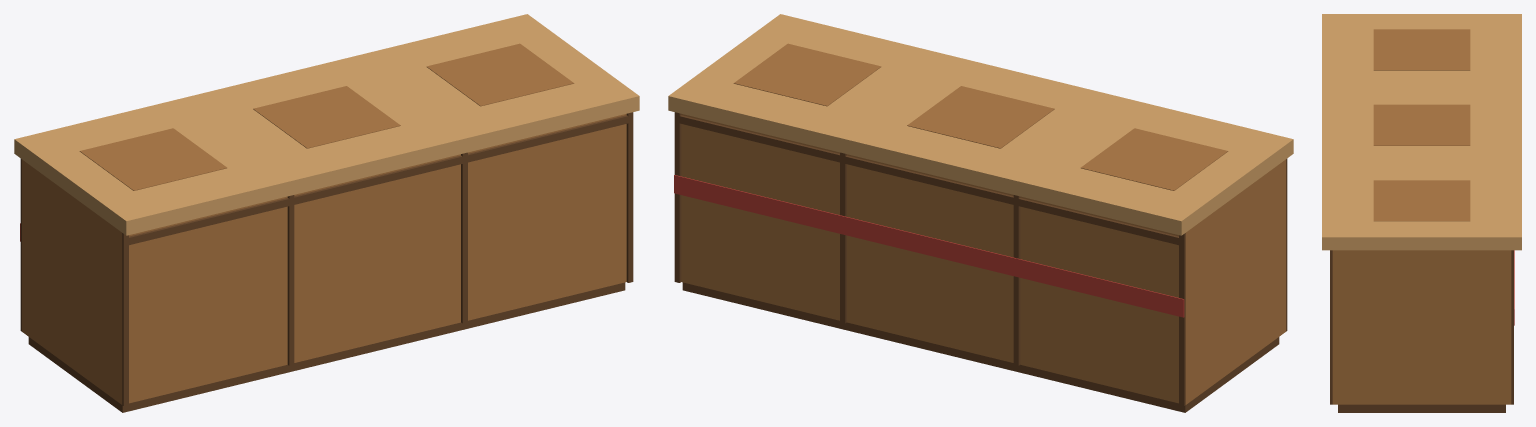
The model's file is pass_3m.glb.
The picture shows the model from 3 angles, left to right: view 1: azimuth 30°, elevation 25°; view 2: azimuth 150°, elevation 25°; view 3: azimuth 270°, elevation 25°; orthographic projection. The views are drawn at different scales.
Parts seen in each view (by area): view 1: pass_3m_body; view 2: pass_3m_body; view 3: pass_3m_body.
Part boxes in pixels (x1,y1,x2,y2): pass_3m_body: (14, 14, 639, 412); pass_3m_body: (668, 14, 1293, 412); pass_3m_body: (1322, 14, 1521, 412).
Size of the model in its own units: 2.96 by 1.1 by 1.12.
